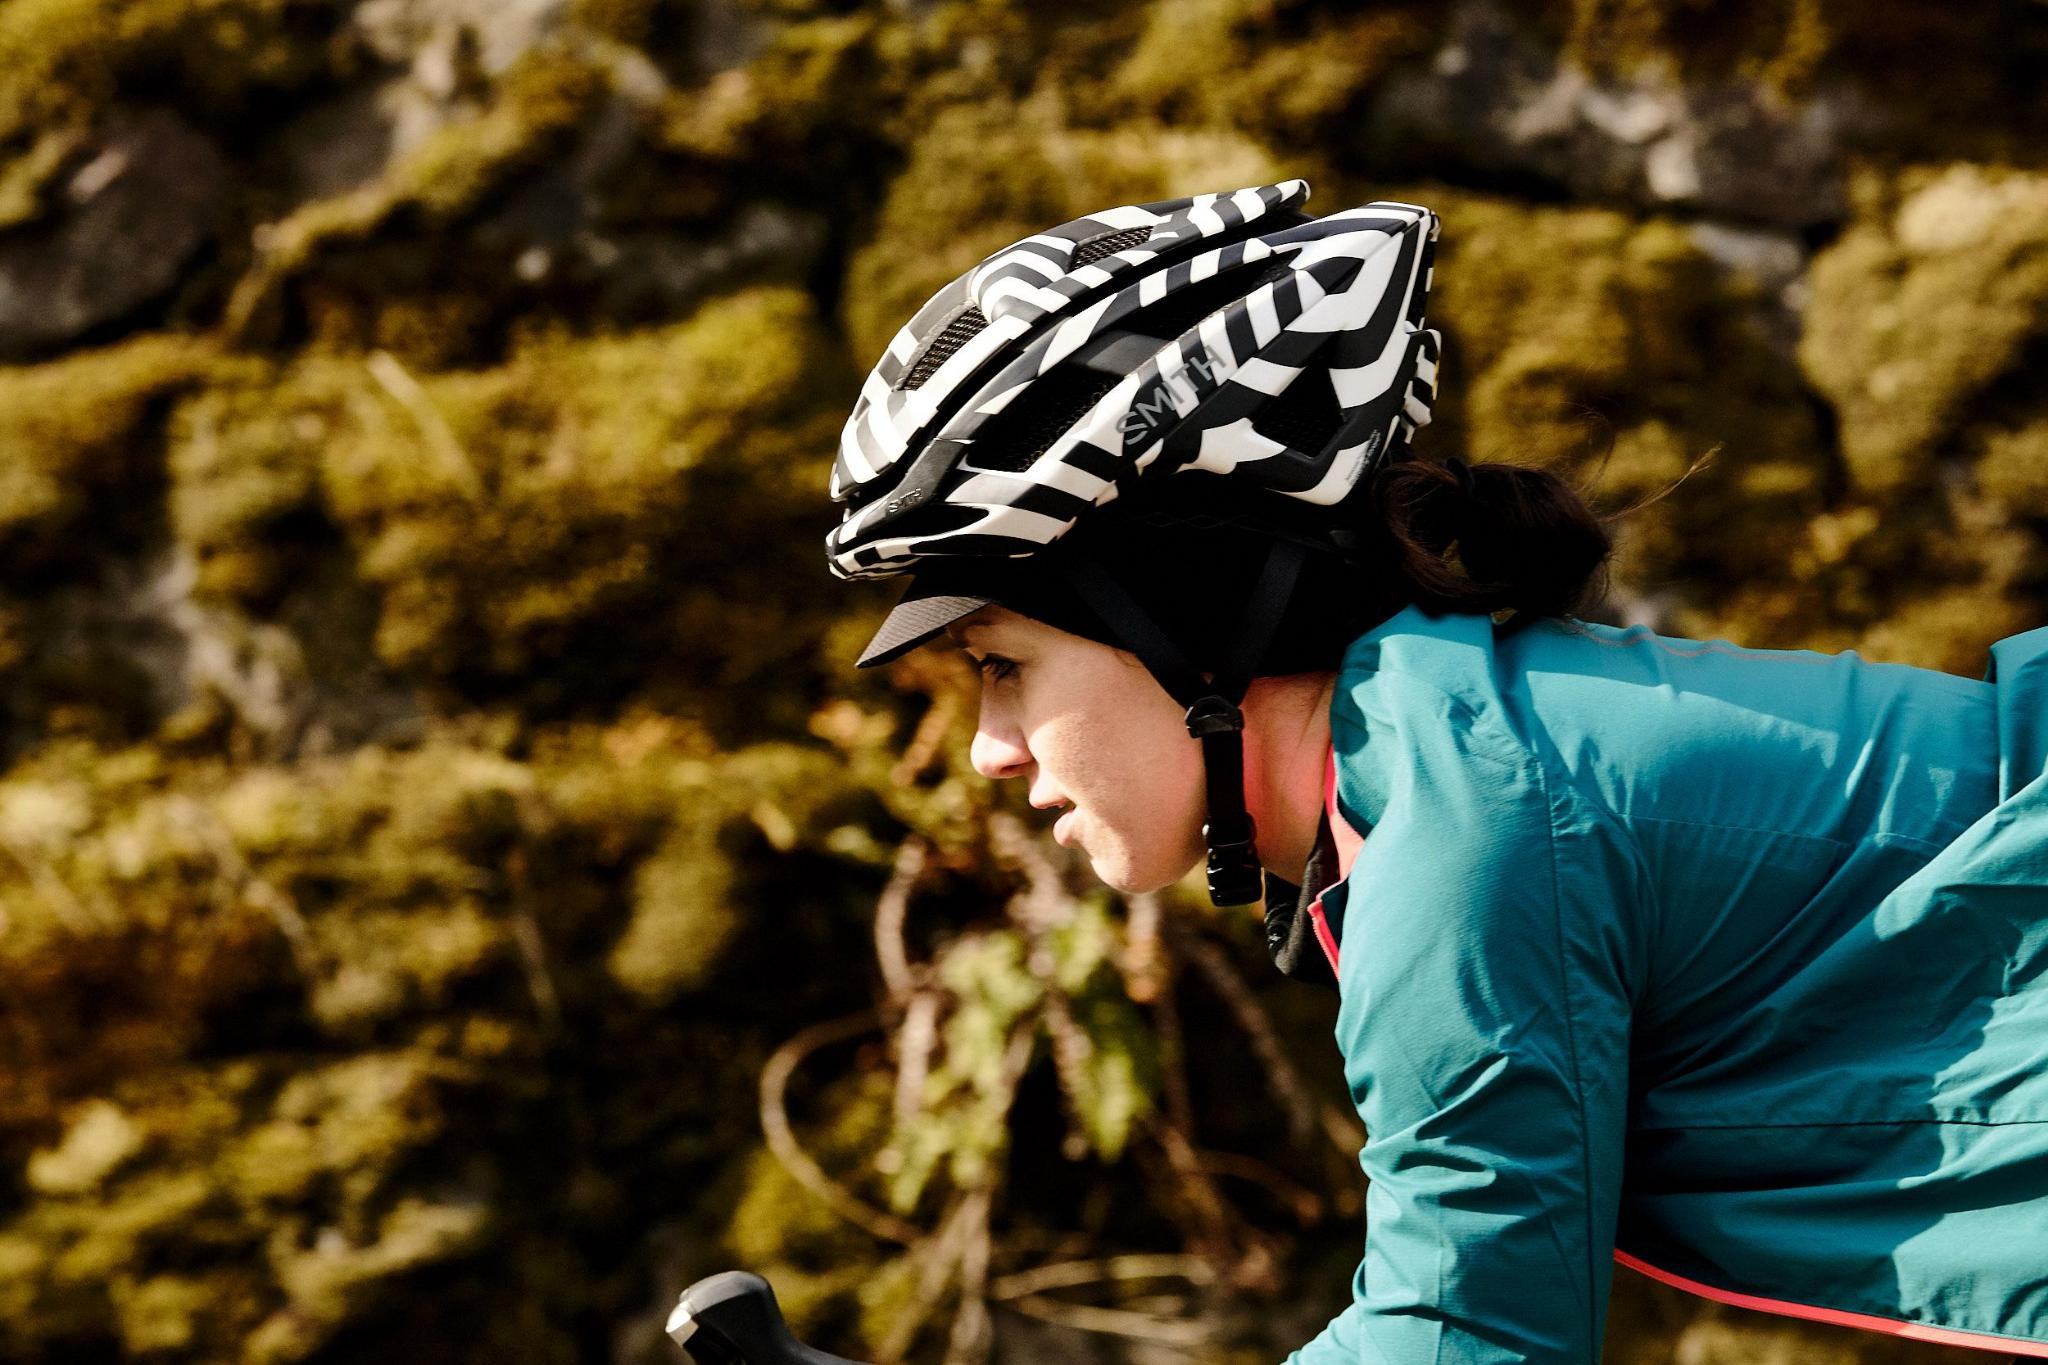Helmet: (822, 184, 1456, 736)
